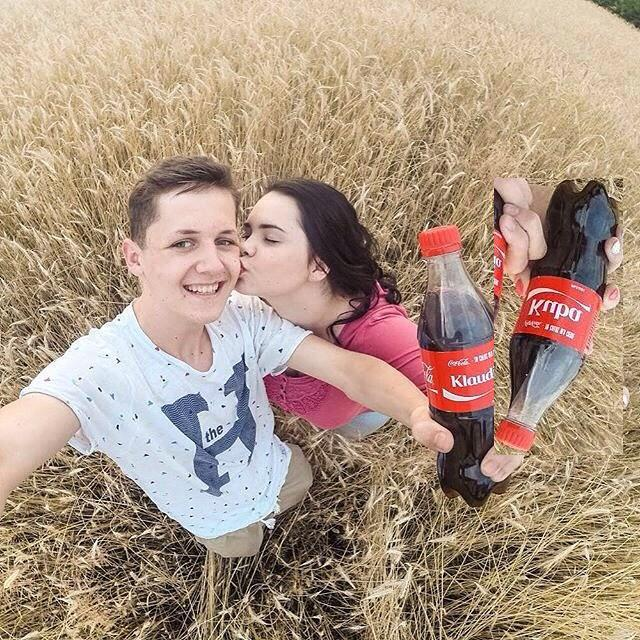coca-cola: (494, 178, 623, 455), (417, 223, 511, 509)
